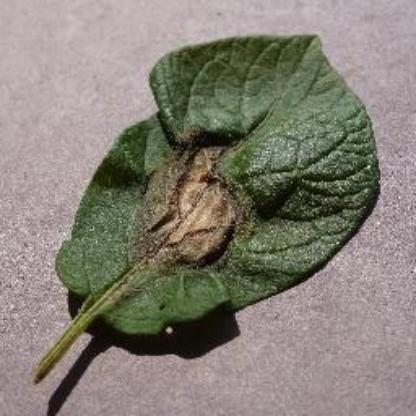Late-Blight: (28, 26, 384, 393)
